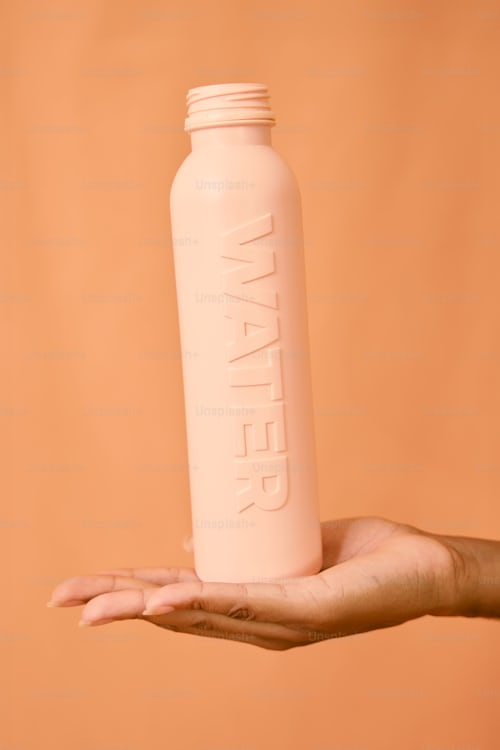Bottle: (157, 74, 322, 603)
